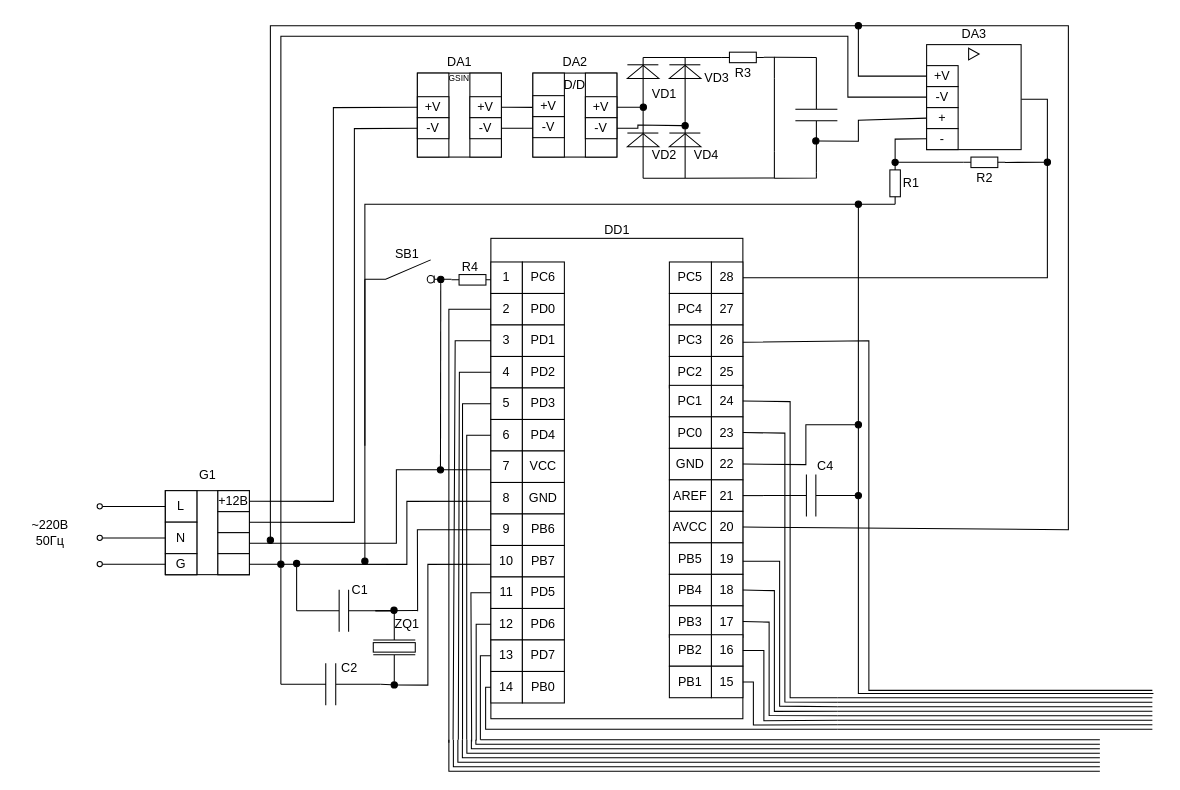
The diagram is 1180 pixels wide and 790 high, and some of its shapes have lost their labels. The shapes that lost their labels are listed below. From the top down, each one's box as (x1, y1, x2, y2) in pixels, then its label:
(794, 56, 837, 173): C3
(490, 237, 743, 719): MPU
(217, 511, 249, 533): -12В
(217, 532, 249, 554): +5В
(217, 553, 249, 575): -5В
